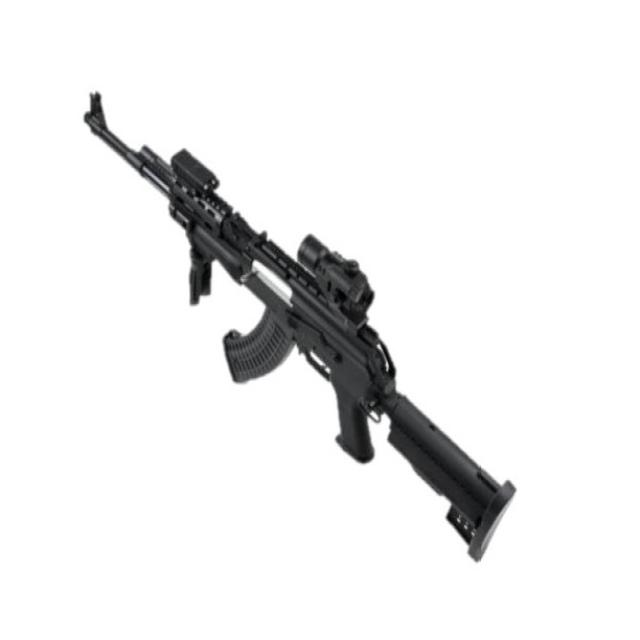rifle: (77, 84, 532, 572)
